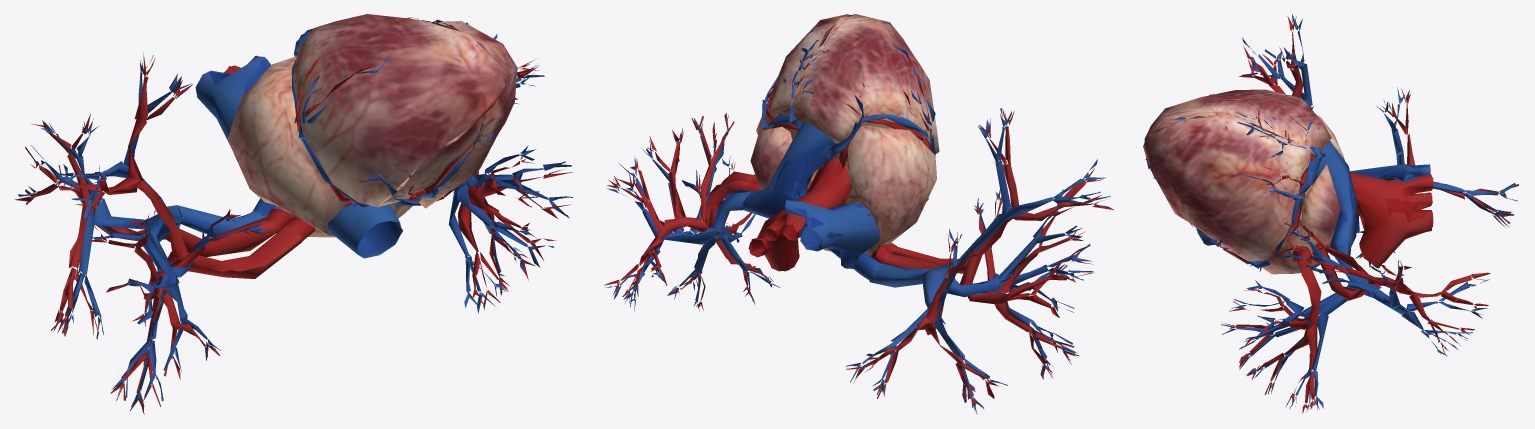
The model's file is asset1.glb.
3 views of the same model, side by side, from view 1: azimuth 30°, elevation 25°; view 2: azimuth 150°, elevation 25°; view 3: azimuth 270°, elevation 25° (orthographic). The views are drawn at different scales.
Visible parts, largest first — view 1: Bronchi_Vessels_pivot.001; view 2: Bronchi_Vessels_pivot.001; view 3: Bronchi_Vessels_pivot.001.
Boxes of the visible parts, x1,y1,x2,y2 form: Bronchi_Vessels_pivot.001: (14, 14, 572, 414); Bronchi_Vessels_pivot.001: (604, 14, 1113, 414); Bronchi_Vessels_pivot.001: (1143, 14, 1518, 413).
Size of the model in its own units: 0.4159 by 0.259 by 0.3312.
4 materials, 4 textured.
